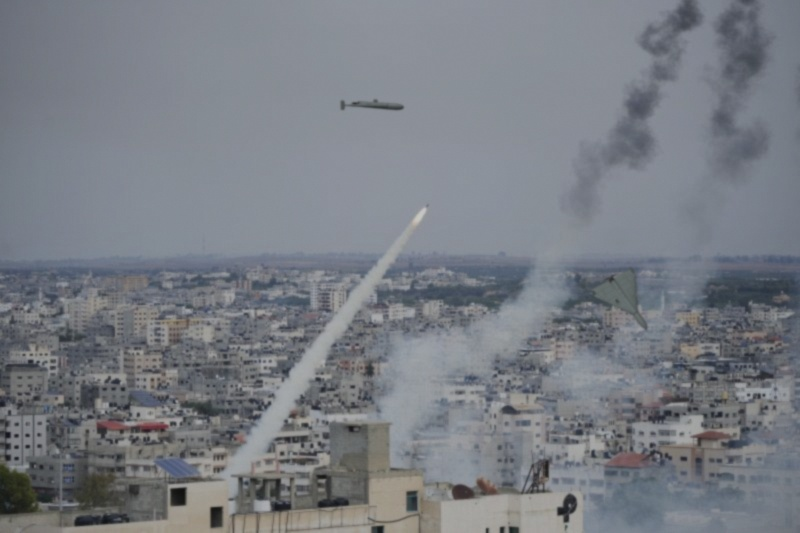shahed: (588, 266, 649, 331), (338, 96, 405, 113)
